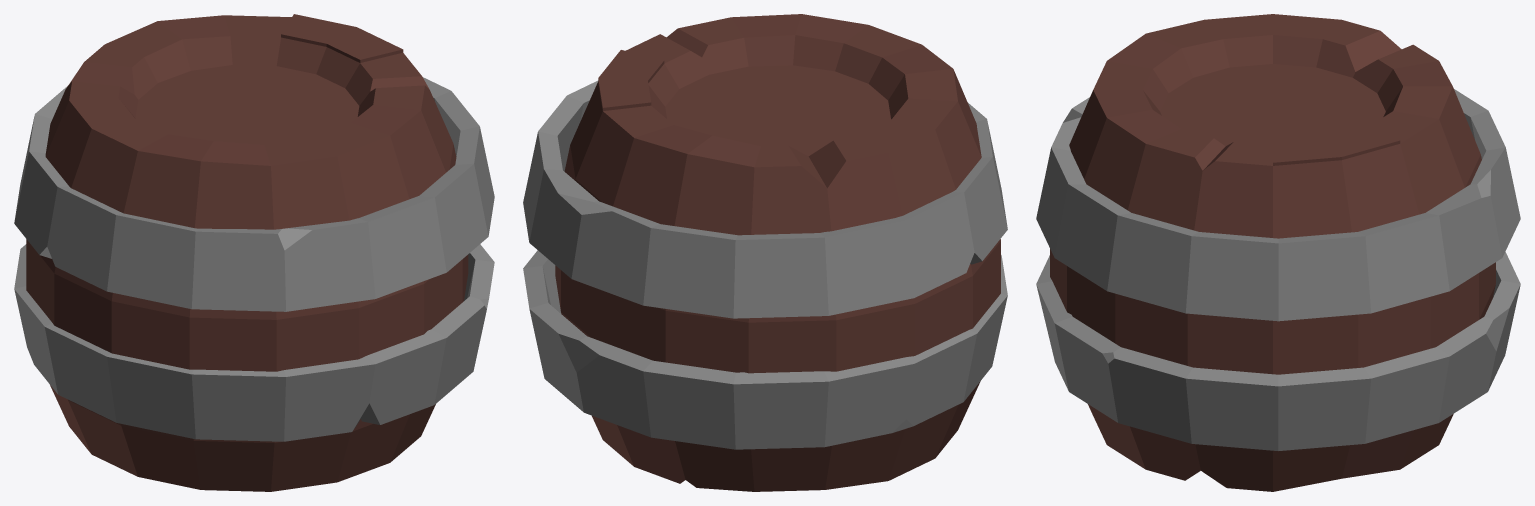
Rendered from barrel.glb.
The picture shows the model from 3 angles, left to right: view 1: azimuth 30°, elevation 25°; view 2: azimuth 150°, elevation 25°; view 3: azimuth 270°, elevation 25°; orthographic projection.
Parts seen in each view (by area): view 1: Wood, Metal; view 2: Wood, Metal; view 3: Wood, Metal.
Part boxes in pixels (x1,y1,x2,y2): Wood: (26, 14, 468, 491); Metal: (14, 77, 494, 441); Wood: (555, 14, 1000, 491); Metal: (523, 80, 1007, 449); Wood: (1050, 14, 1495, 491); Metal: (1036, 89, 1520, 450).
Bounding box in the file's own units: 2.69 × 2.02 × 2.7.
